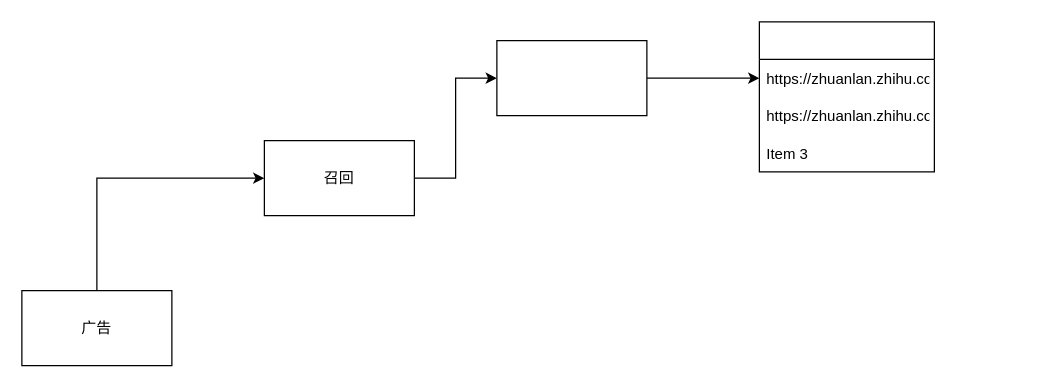
Image size: 1058x388. Some labels were removed from this diagram. The shapes that lost their labels are listed below. From the top down, each one's box as (x1, y1, x2, y2) in pixels, then its label:
(496, 39, 647, 116): 向量
(758, 21, 934, 172): faiss
